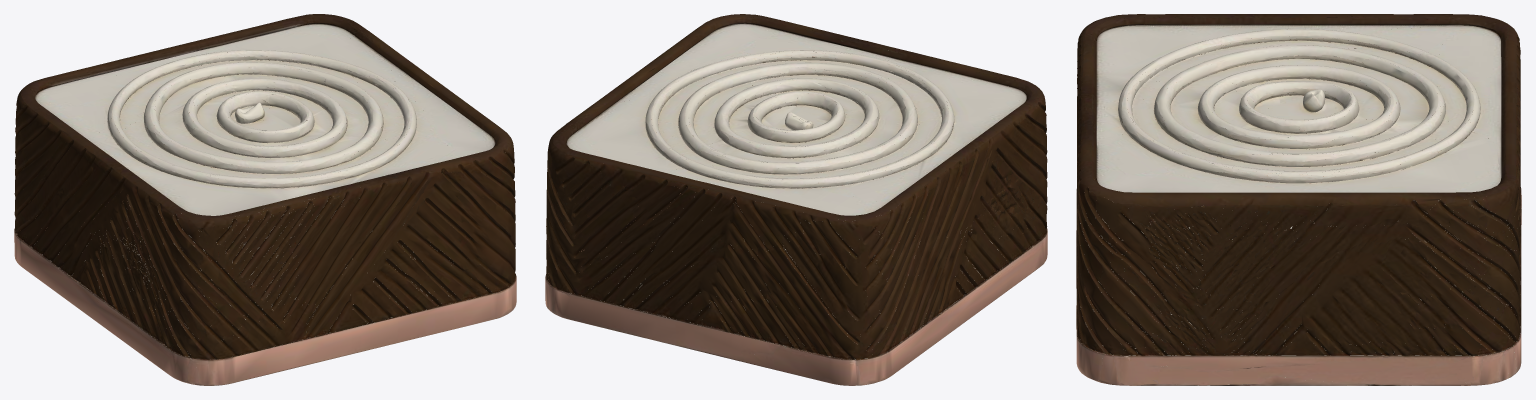
File: cake-07-rect-sheet-cocoa.glb
The picture shows the model from 3 angles, left to right: view 1: azimuth 30°, elevation 25°; view 2: azimuth 150°, elevation 25°; view 3: azimuth 270°, elevation 25°; orthographic projection. The views are drawn at different scales.
Visible parts, largest first — view 1: cake-07; view 2: cake-07; view 3: cake-07.
Boxes of the visible parts, bbox=[...] form: cake-07: bbox=[14, 14, 516, 385]; cake-07: bbox=[545, 14, 1047, 385]; cake-07: bbox=[1076, 14, 1521, 385].
Size of the model in its own units: 2 by 0.9733 by 1.99.
Materials: 1 (1 with a texture image).
